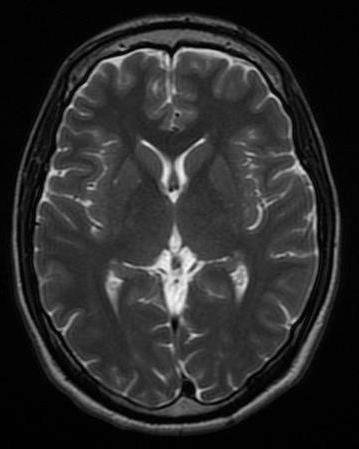Normal_Brain: (16, 1, 359, 449)
